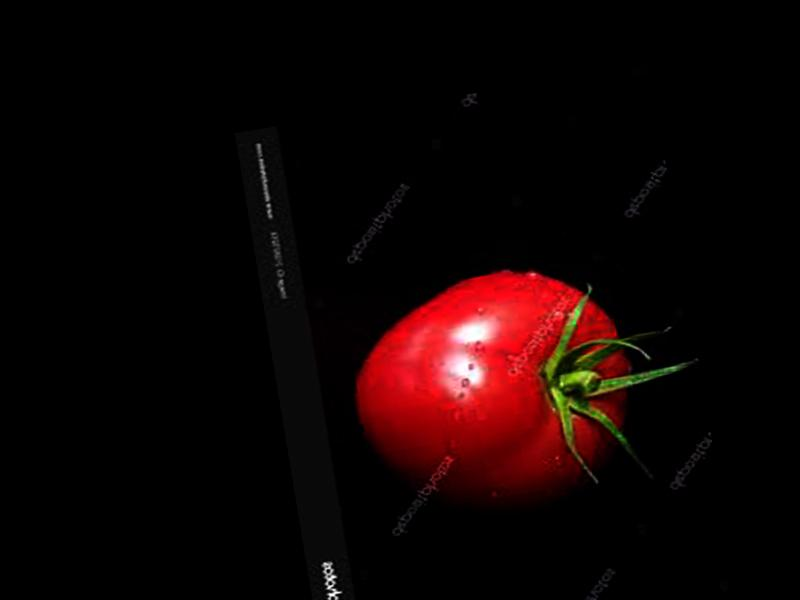Tomato: (338, 252, 649, 534)
